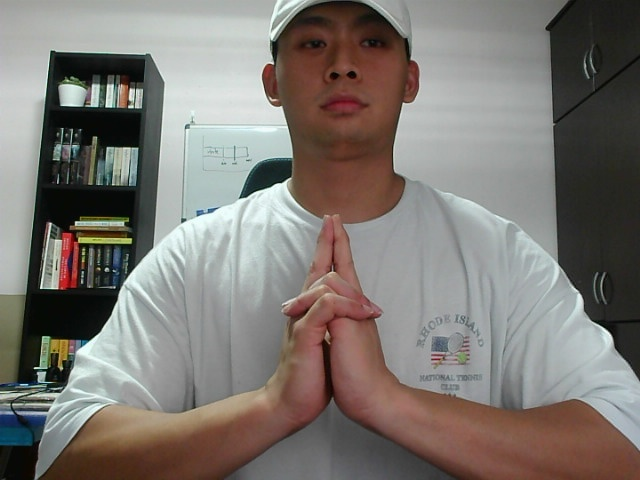Tiger: (249, 203, 421, 439)
